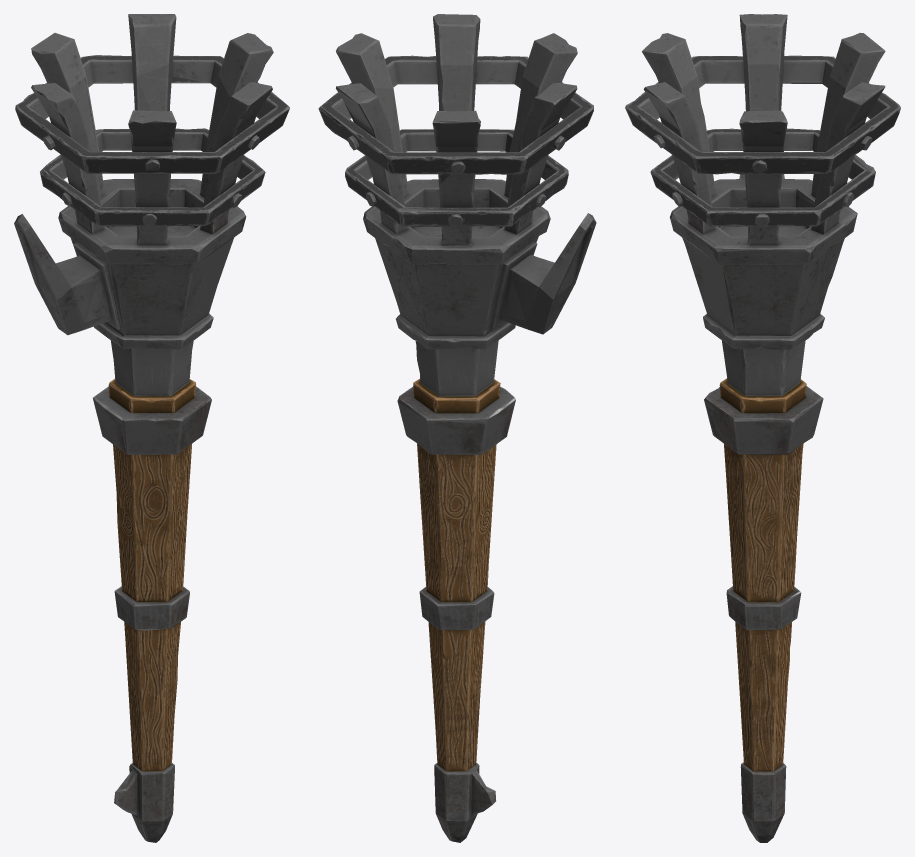
File: StandingTorch.obj
3 views of the same model, side by side, from view 1: azimuth 30°, elevation 25°; view 2: azimuth 150°, elevation 25°; view 3: azimuth 270°, elevation 25° (orthographic).
Visible parts, largest first — view 1: Merged_Cylinder_004_meshId0_name; view 2: Merged_Cylinder_004_meshId0_name; view 3: Merged_Cylinder_004_meshId0_name.
Part boxes in pixels (bbox=[...]): Merged_Cylinder_004_meshId0_name: bbox=[14, 14, 289, 842]; Merged_Cylinder_004_meshId0_name: bbox=[318, 14, 596, 842]; Merged_Cylinder_004_meshId0_name: bbox=[625, 14, 900, 842].
Bounding box in the file's own units: 2.88 × 8.64 × 2.8.
